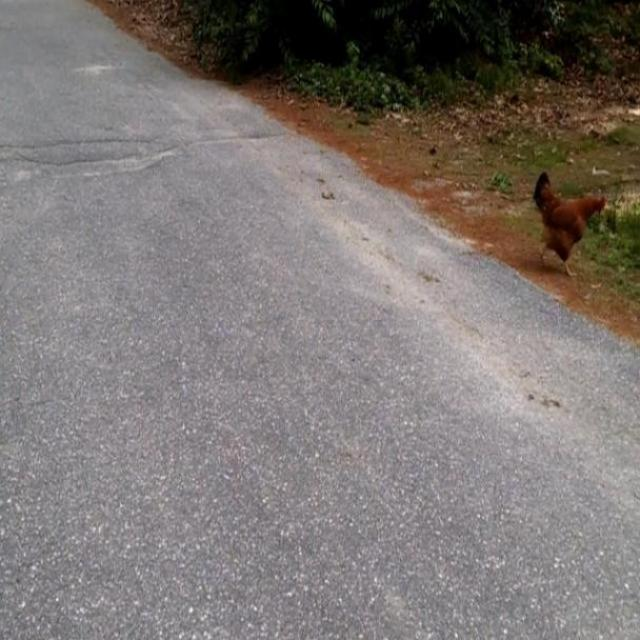Chicken: (532, 171, 606, 280)
